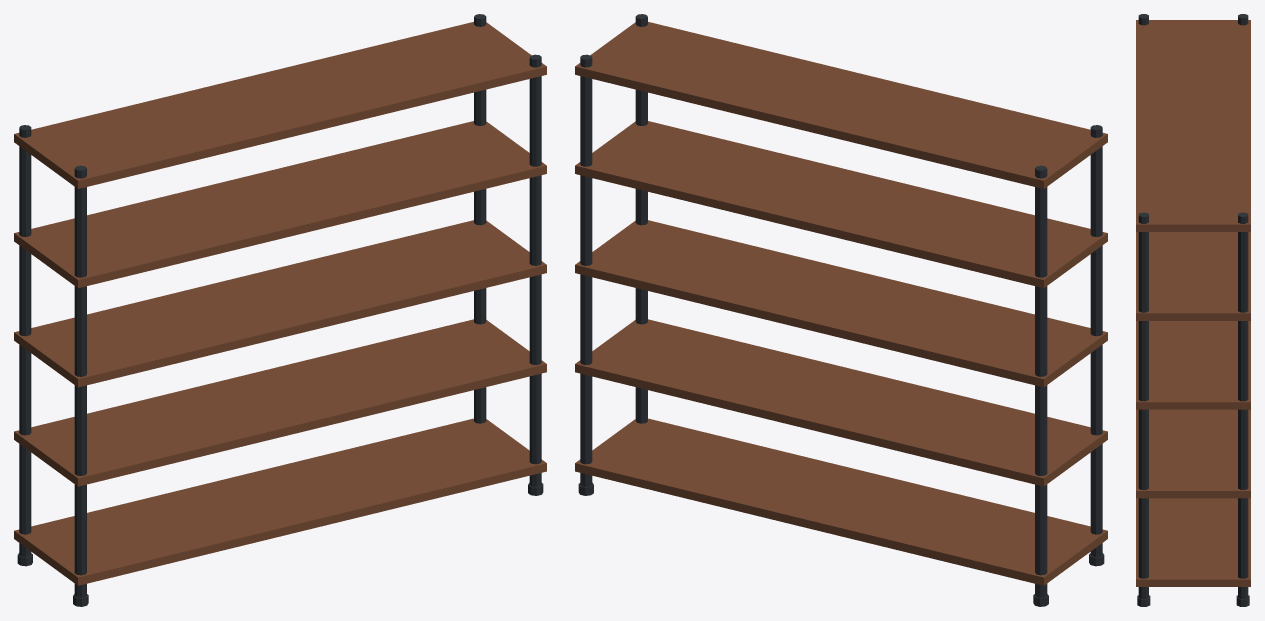
Rendered from Rack_02.fbx.
3 views of the same model, side by side, from view 1: azimuth 30°, elevation 25°; view 2: azimuth 150°, elevation 25°; view 3: azimuth 270°, elevation 25° (orthographic). The views are drawn at different scales.
Visible parts, largest first — view 1: Rack_02; view 2: Rack_02; view 3: Rack_02.
Part boxes in pixels (box(x1,y1,x2,y2)): Rack_02: box(14, 14, 546, 606); Rack_02: box(575, 14, 1107, 606); Rack_02: box(1136, 14, 1250, 606).
Bounding box in the file's own units: 244 × 216 × 57.67.
